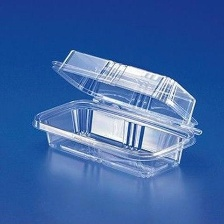plastic_box: (24, 42, 208, 184)
